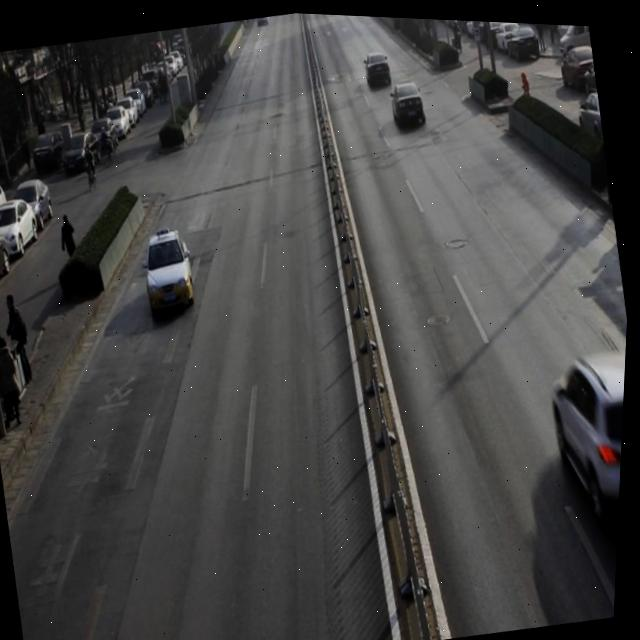car: (544, 337, 629, 517), (140, 219, 202, 322), (385, 72, 431, 127), (361, 43, 397, 90)
